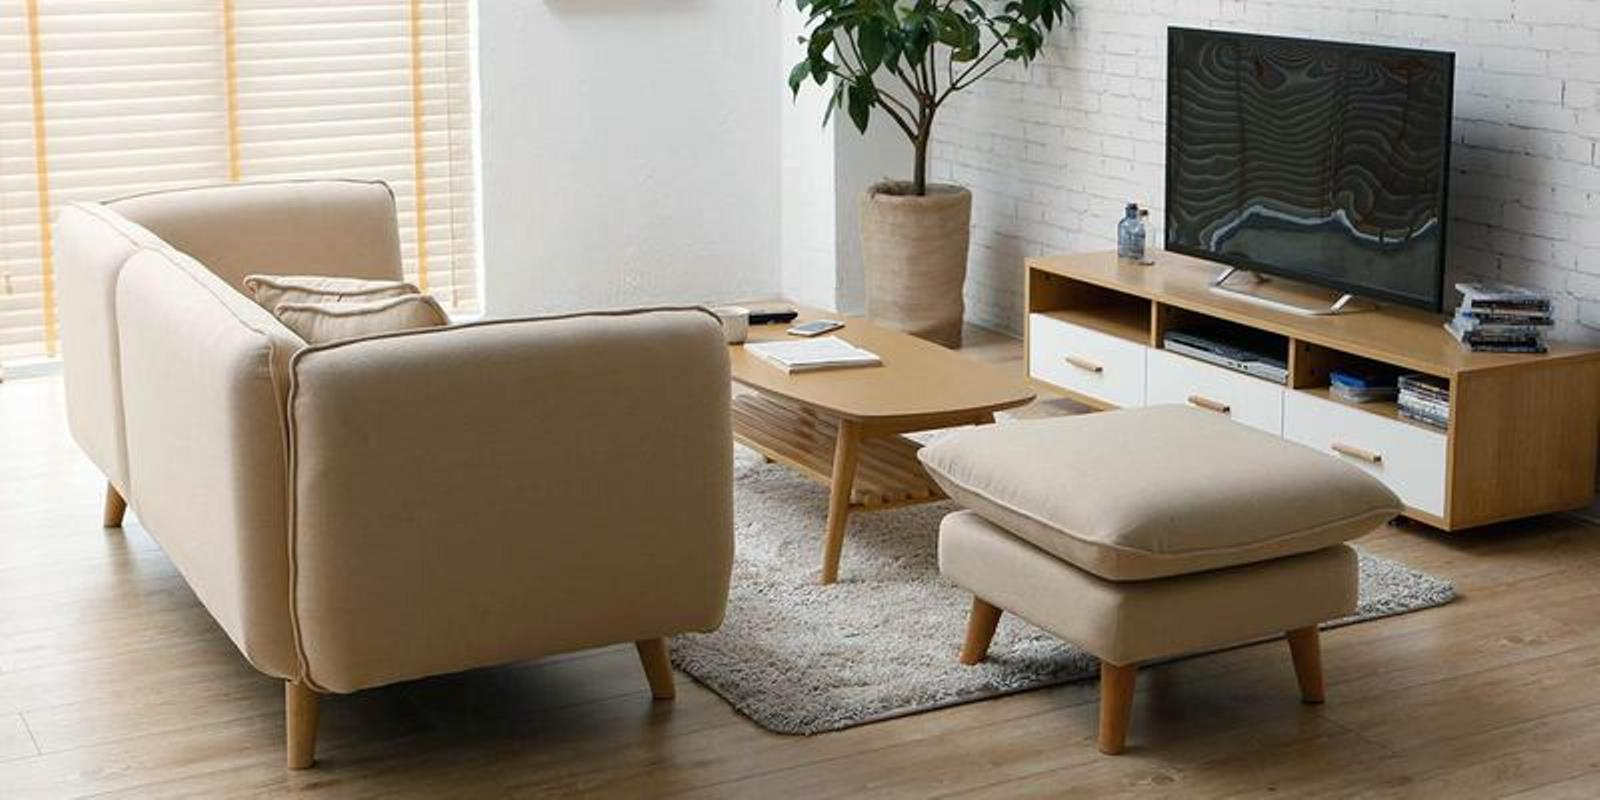Gloria Three Seater Sofa with Ottoman in Beige Colour by CasaCraft: (41, 166, 766, 774), (903, 384, 1415, 766)
